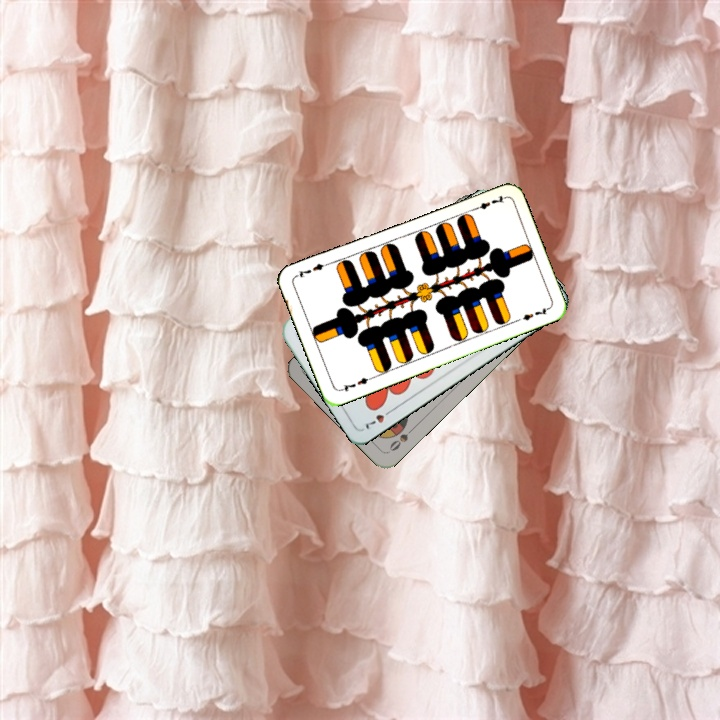E7: (468, 191, 507, 213), (336, 373, 375, 394)
H7: (361, 404, 396, 432)
SO: (384, 423, 417, 455)
